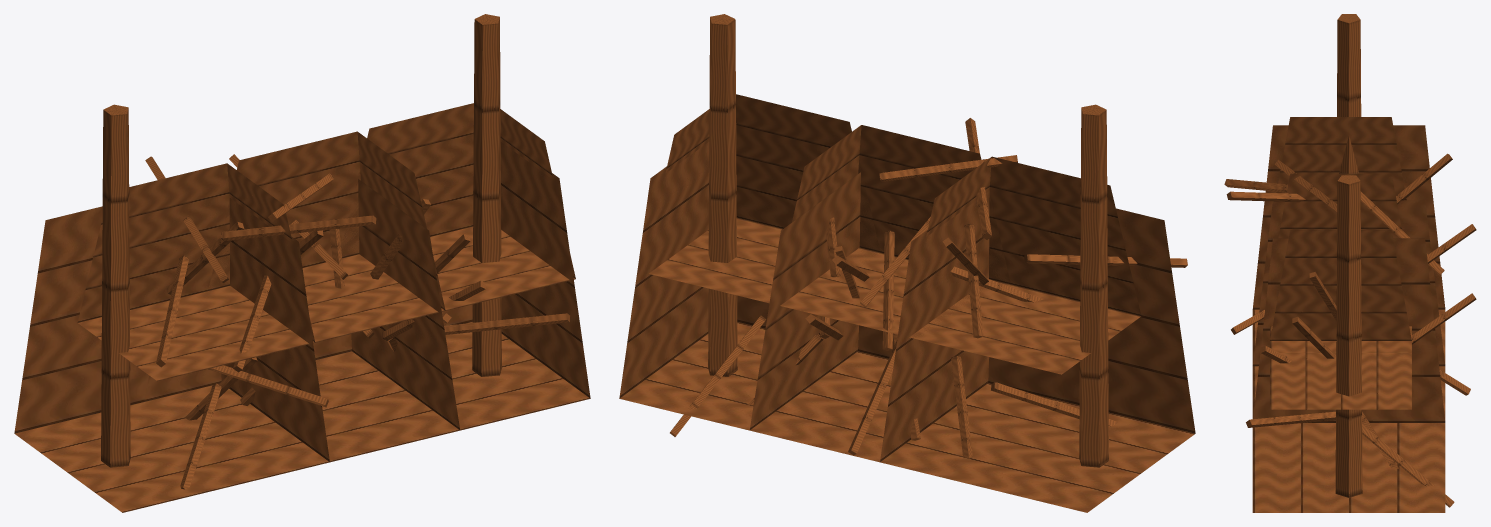
Rendered from safari-camp-and-bush-lodge-boma-thorn-fence-section-79769b04__37708.glb.
3 renders of one model, left to right at view 1: azimuth 30°, elevation 25°; view 2: azimuth 150°, elevation 25°; view 3: azimuth 270°, elevation 25°, orthographic. The views are drawn at different scales.
Visible parts, largest first — view 1: boma-thorn-fence-section-timber; view 2: boma-thorn-fence-section-timber; view 3: boma-thorn-fence-section-timber.
Part boxes in pixels (left/top/right/bottom): boma-thorn-fence-section-timber: left=14, top=14, right=590, bottom=512; boma-thorn-fence-section-timber: left=619, top=14, right=1195, bottom=512; boma-thorn-fence-section-timber: left=1224, top=14, right=1476, bottom=512.
Bounding box in the file's own units: 2.37 × 1.81 × 1.24.
Materials: 1 (1 with a texture image).
